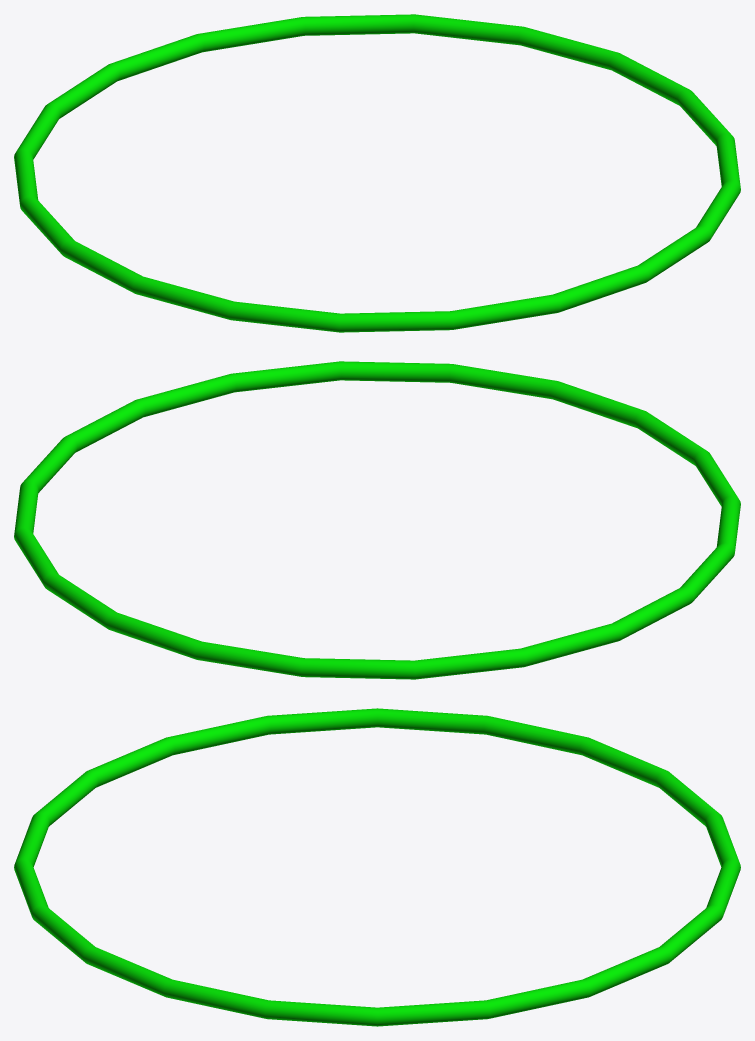
File: RotateYaw.fbx
The picture shows the model from 3 angles, top to bottom: view 1: azimuth 30°, elevation 25°; view 2: azimuth 150°, elevation 25°; view 3: azimuth 270°, elevation 25°; orthographic projection.
Parts seen in each view (by area): view 1: pTorus1; view 2: pTorus1; view 3: pTorus1.
Boxes of the visible parts, x1=… form: pTorus1: x1=14, y1=14, x2=740, y2=332; pTorus1: x1=14, y1=361, x2=740, y2=679; pTorus1: x1=14, y1=708, x2=740, y2=1026.
Size of the model in its own units: 2 by 0.0524 by 2.
